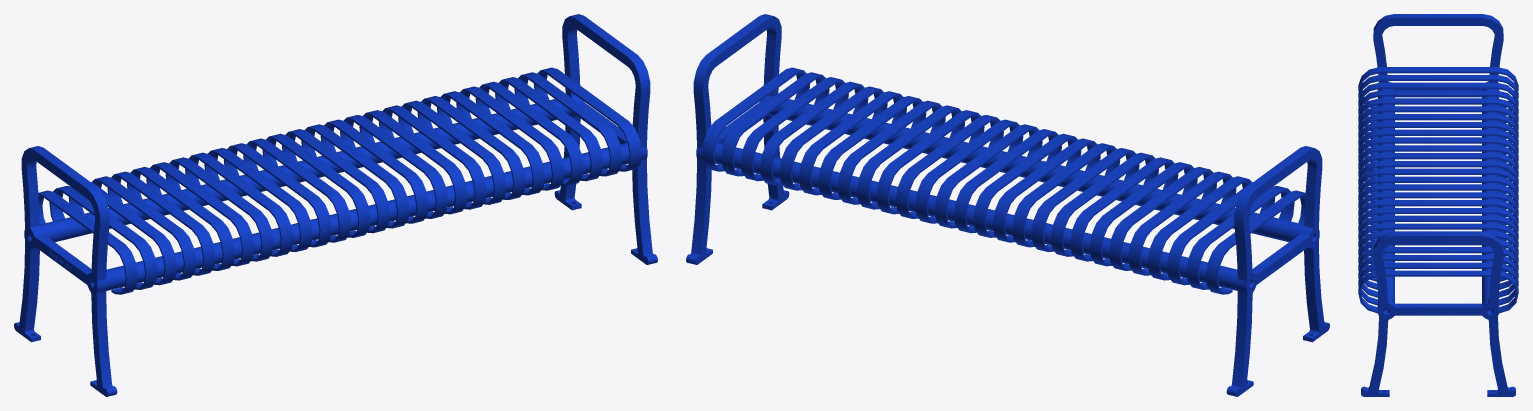
3 views of the same model, side by side, from view 1: azimuth 30°, elevation 25°; view 2: azimuth 150°, elevation 25°; view 3: azimuth 270°, elevation 25° (orthographic). The views are drawn at different scales.
Visible parts, largest first — view 1: mesh47_mesh47-geometry, mesh1_mesh1-geometry, mesh49_mesh49-geometry; view 2: mesh47_mesh47-geometry, mesh1_mesh1-geometry, mesh49_mesh49-geometry; view 3: mesh47_mesh47-geometry, mesh1_mesh1-geometry, mesh49_mesh49-geometry.
Part boxes in pixels (<box>): mesh47_mesh47-geometry: <box>38,67,641,294</box>; mesh1_mesh1-geometry: <box>14,14,657,396</box>; mesh49_mesh49-geometry: <box>40,96,629,290</box>; mesh47_mesh47-geometry: <box>702,67,1305,294</box>; mesh1_mesh1-geometry: <box>686,14,1329,396</box>; mesh49_mesh49-geometry: <box>714,96,1303,290</box>; mesh47_mesh47-geometry: <box>1358,67,1518,313</box>; mesh1_mesh1-geometry: <box>1361,14,1515,396</box>; mesh49_mesh49-geometry: <box>1378,89,1498,310</box>.
Bounding box in the file's own units: 0.9102 × 0.3073 × 0.2775.
